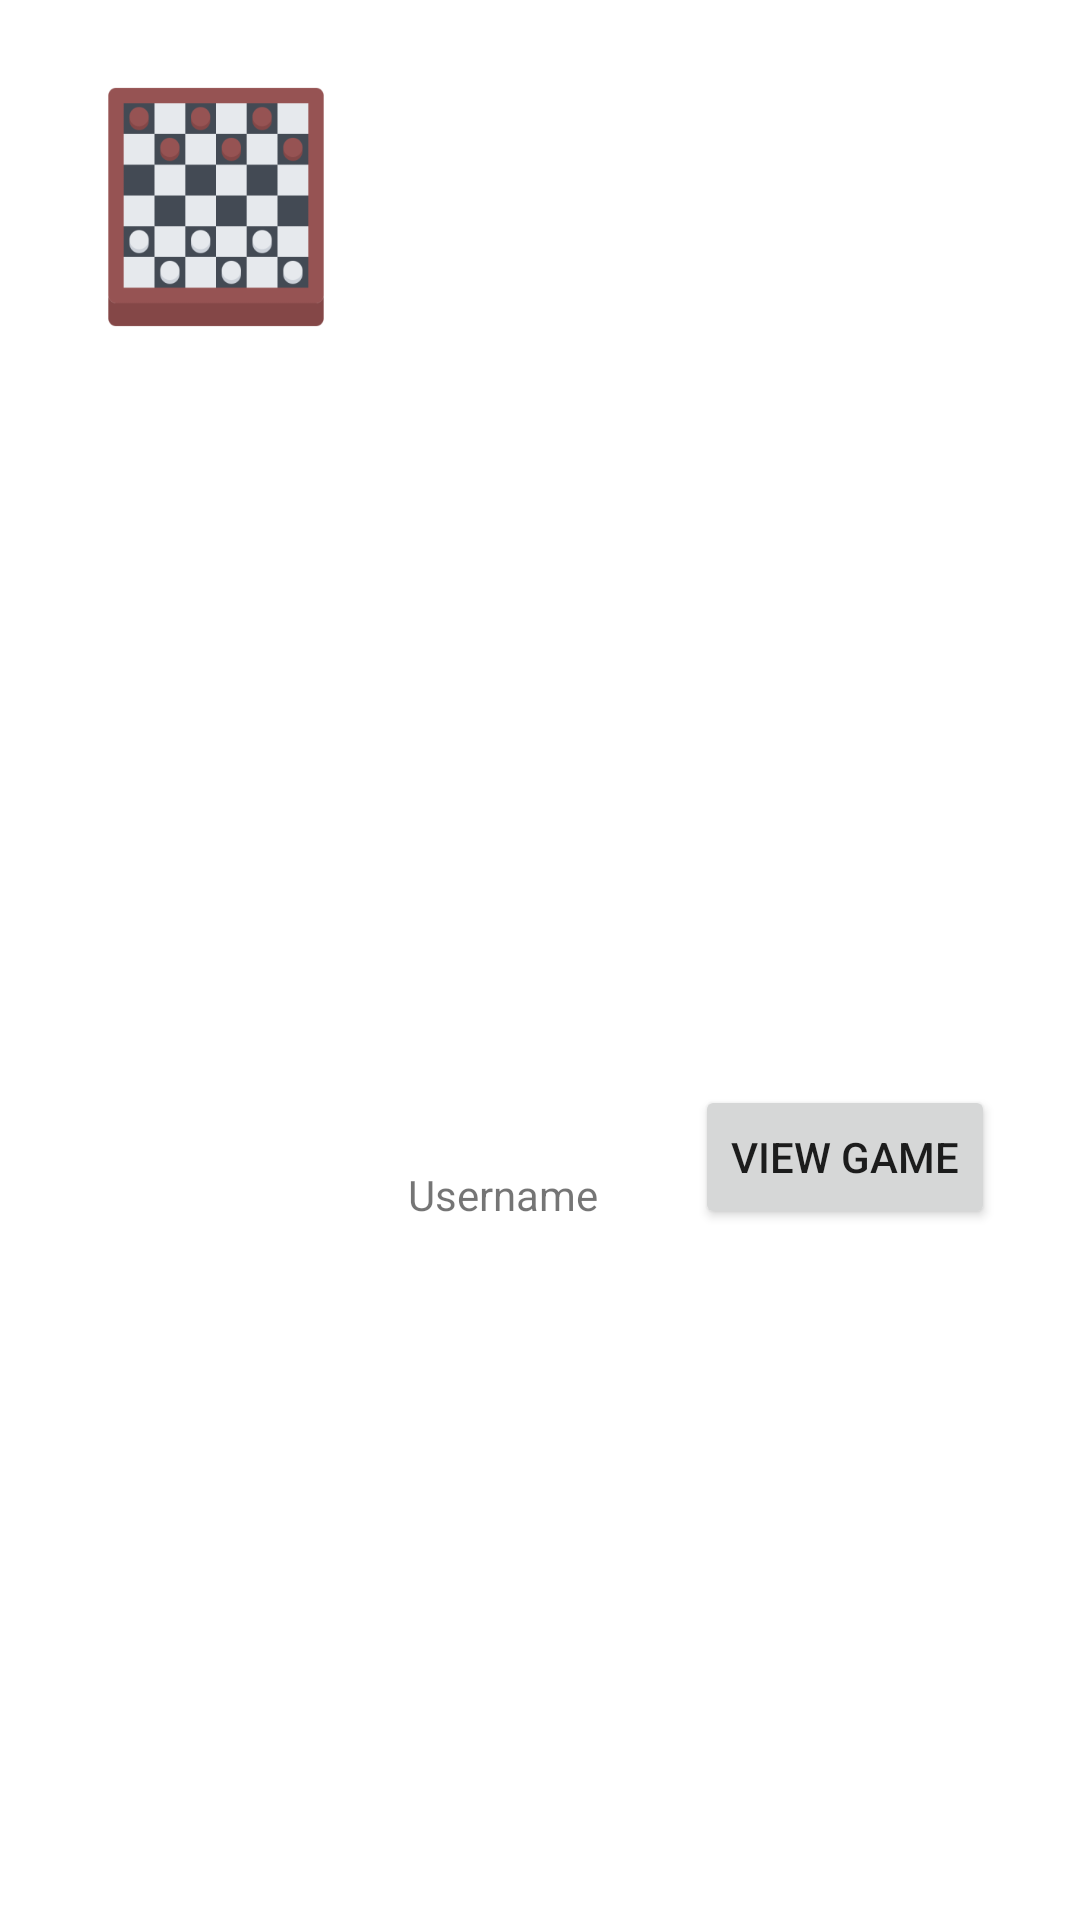

Screen size 1080w x 1920h. Icon name, then its center in pixels as point (x, y):
checkers: point (216, 207)
